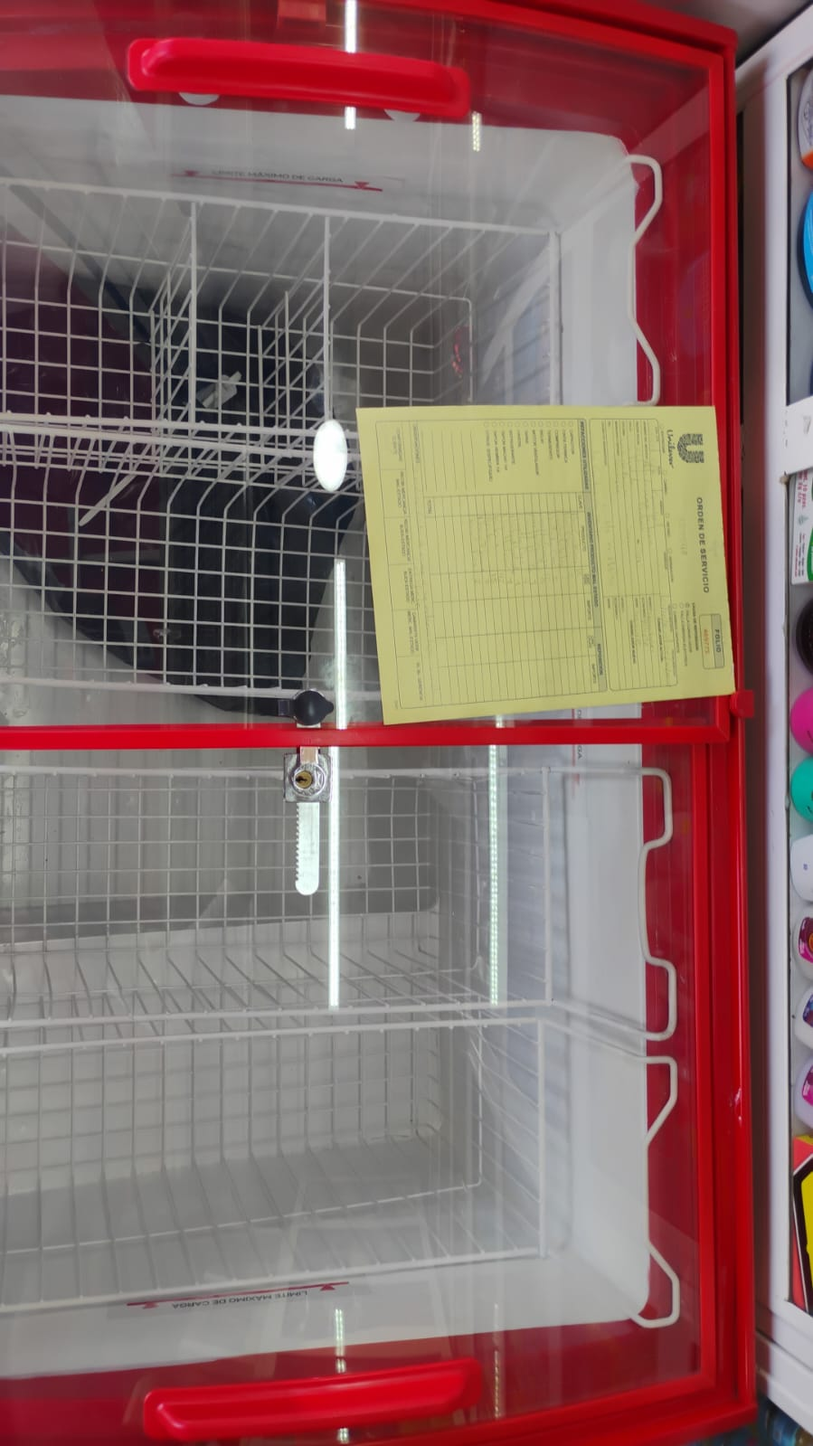rejilla: (1, 1250, 538, 1310), (2, 179, 551, 235), (1, 1020, 540, 1051), (2, 1001, 548, 1026), (2, 427, 311, 455), (2, 414, 316, 434), (2, 678, 297, 696), (1, 767, 282, 777), (544, 774, 551, 1000), (540, 1025, 545, 1254), (553, 238, 558, 404), (344, 770, 546, 774), (333, 692, 380, 700), (346, 433, 357, 437), (349, 455, 360, 458)
